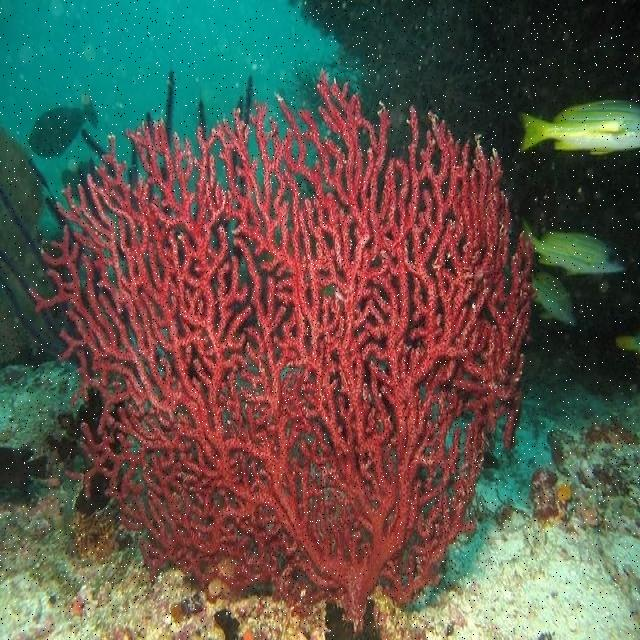fish: (519, 100, 638, 154), (526, 221, 631, 275), (28, 89, 97, 157), (535, 271, 577, 325)
reefs: (28, 69, 538, 619)
